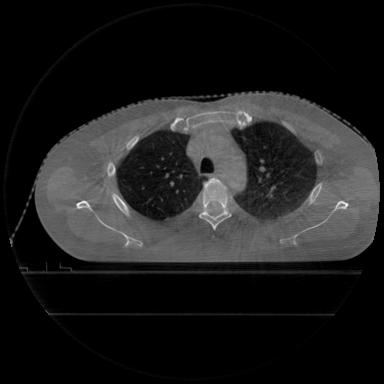body: (34, 93, 379, 262)
cord: (199, 178, 232, 230)
paru kanan: (116, 130, 202, 219)
paru kiri: (231, 122, 316, 219)
